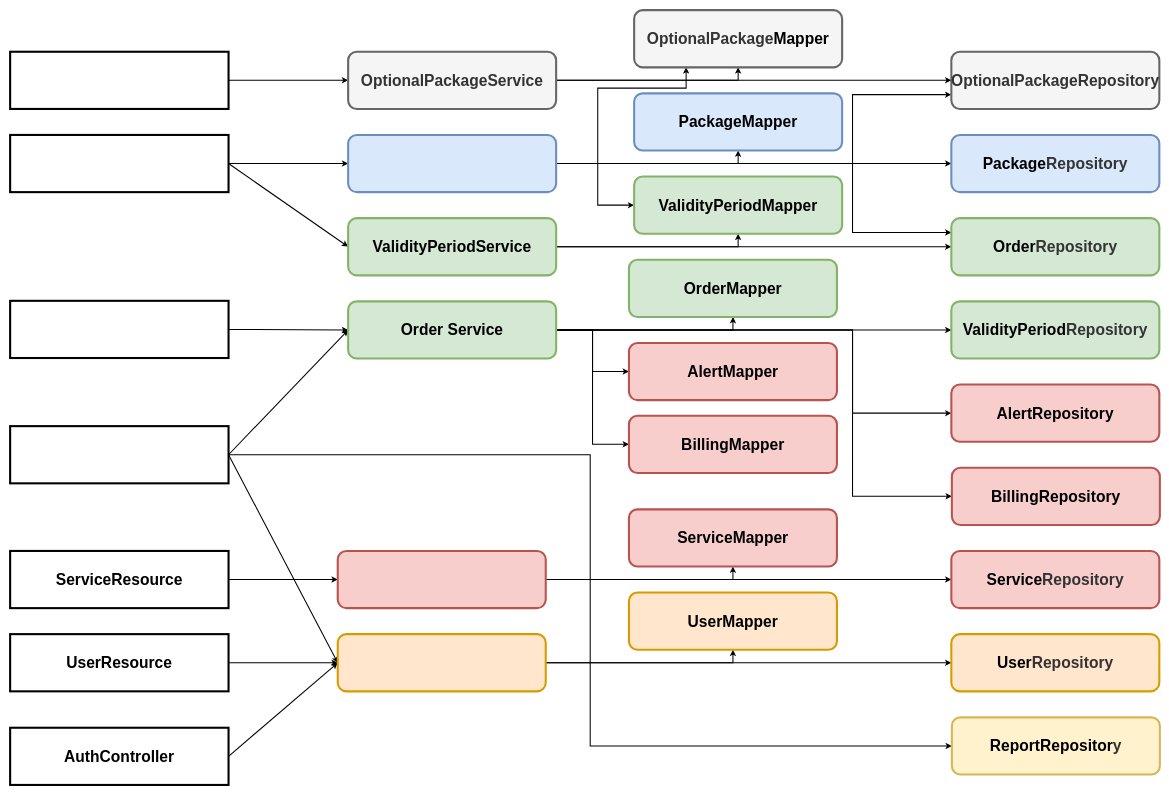
This 1169x795 diagram has some shape labels left out. Each missing label, with the centre of its shape:
"OptionalPackageResource" belongs at (119,80).
"OrderResource" belongs at (119,329).
"PackageResource" belongs at (119,163).
"PackageService" belongs at (452,163).
"ReportResource" belongs at (119,454).
"ServiceService" belongs at (441,579).
"UserService" belongs at (441,662).
